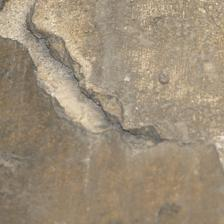Crack: (4, 4, 161, 145)
